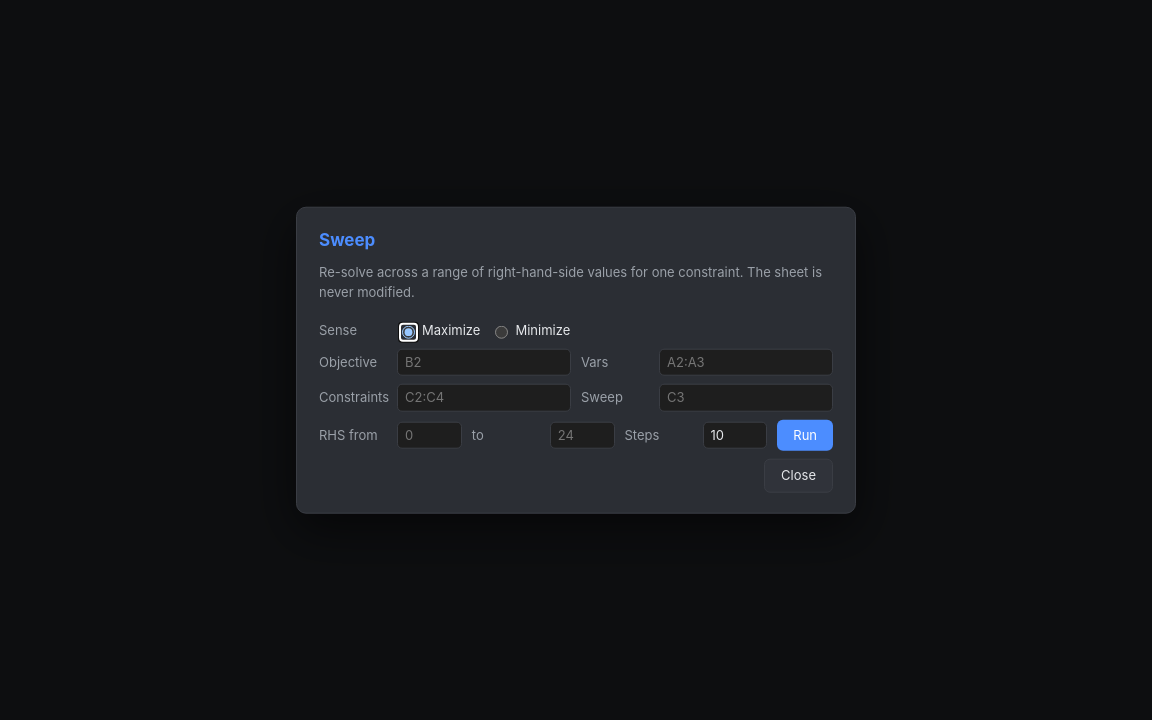
an incomplete model is refused before reaching the bridge
Step 1. Click the button "Run" → x=805, y=435, box [777,419,833,451]
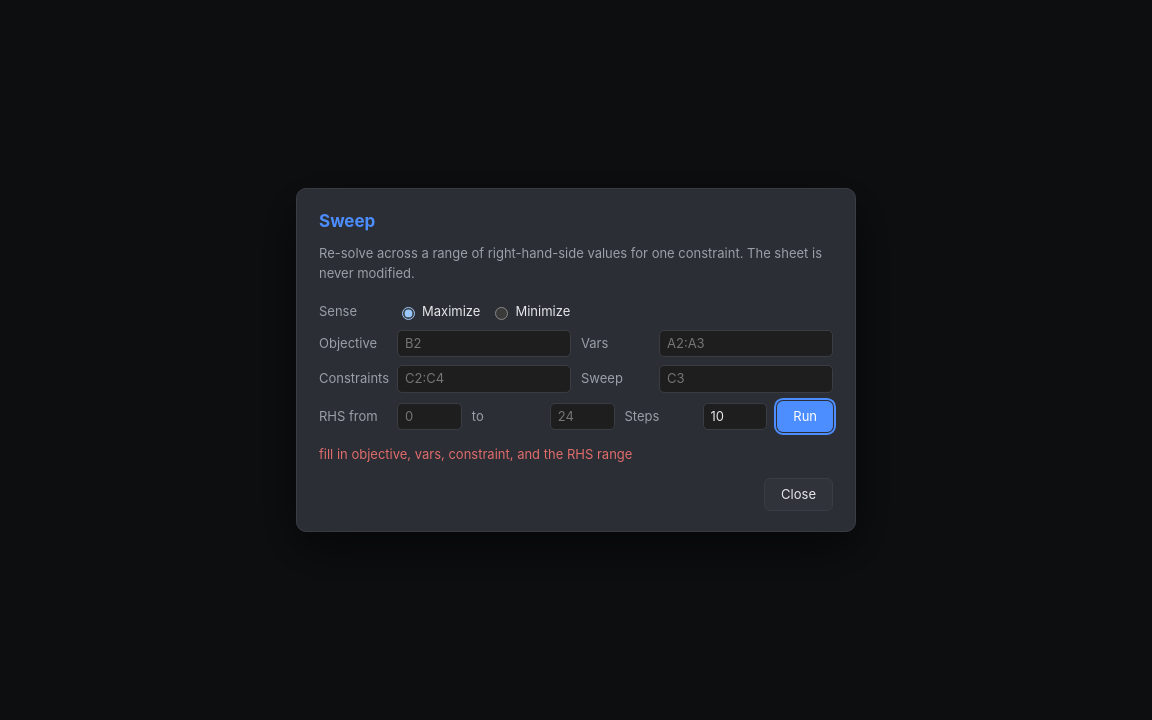
Now the text "fill in objective, vars, constraint, and the RHS range" is shown, box [319,446,632,462]
